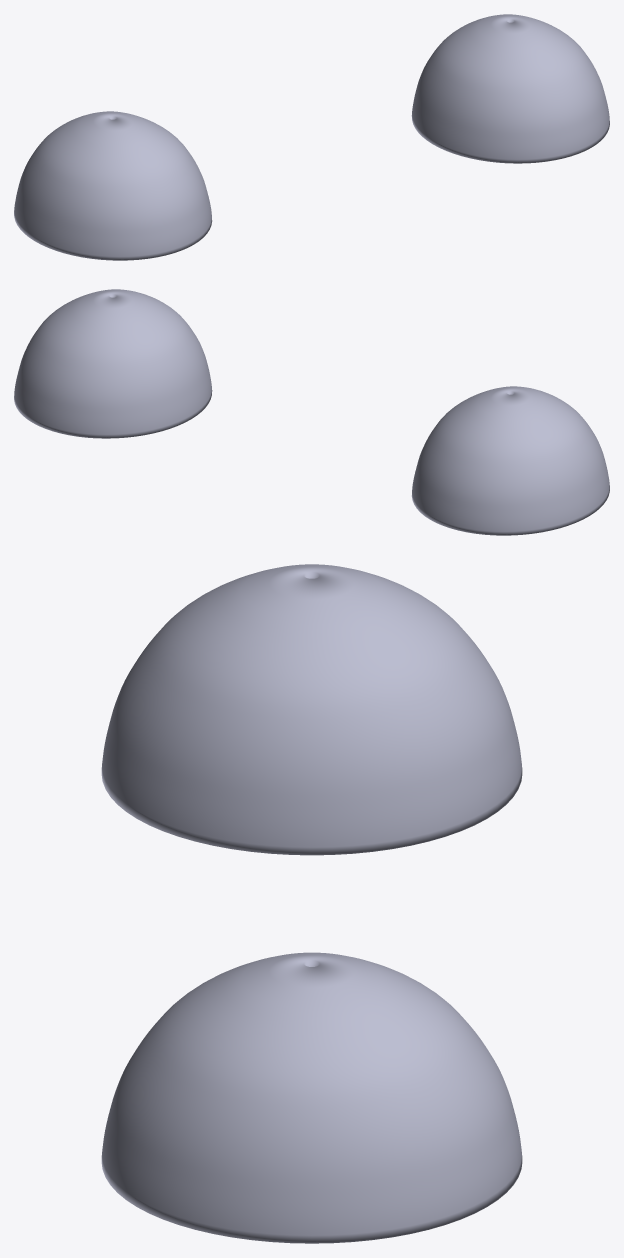
File: squire_pauldrons.glb
The picture shows the model from 3 angles, top to bottom: view 1: azimuth 30°, elevation 25°; view 2: azimuth 150°, elevation 25°; view 3: azimuth 270°, elevation 25°; orthographic projection. The views are drawn at different scales.
Parts seen in each view (by area): view 1: squire_pauldrons__shell_l, squire_pauldrons__shell_r; view 2: squire_pauldrons__shell_l, squire_pauldrons__shell_r; view 3: squire_pauldrons__shell_l, squire_pauldrons__shell_r.
Part boxes in pixels (x1=…): squire_pauldrons__shell_l: x1=411, y1=14, x2=609, y2=163; squire_pauldrons__shell_r: x1=14, y1=111, x2=212, y2=260; squire_pauldrons__shell_l: x1=14, y1=289, x2=212, y2=438; squire_pauldrons__shell_r: x1=411, y1=386, x2=609, y2=535; squire_pauldrons__shell_l: x1=101, y1=952, x2=522, y2=1243; squire_pauldrons__shell_r: x1=101, y1=564, x2=522, y2=855.
Bounding box in the file's own units: 1.67 × 0.2808 × 0.538.
